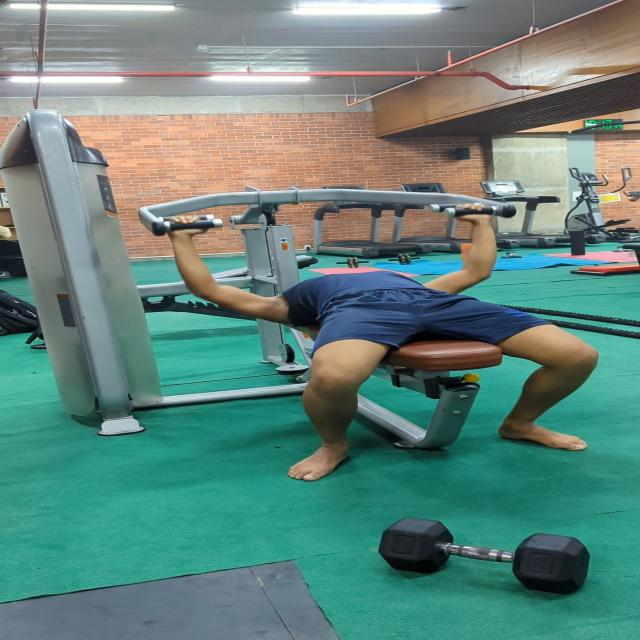Normal_BrenchPress: (90, 193, 640, 467)
